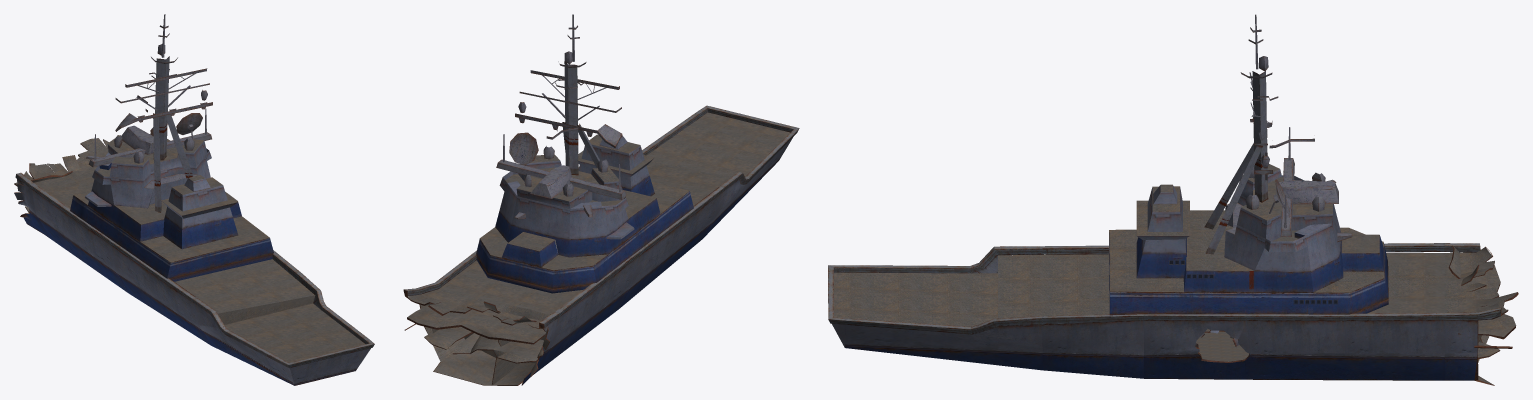
The model's file is Prop_DjShip003b_lod1.glb.
3 views of the same model, side by side, from view 1: azimuth 30°, elevation 25°; view 2: azimuth 150°, elevation 25°; view 3: azimuth 270°, elevation 25° (orthographic). The views are drawn at different scales.
Parts seen in each view (by area): view 1: dj_ship003b_lod1_0; view 2: dj_ship003b_lod1_0; view 3: dj_ship003b_lod1_0.
Part boxes in pixels (bbox=[...]): dj_ship003b_lod1_0: bbox=[14, 14, 374, 385]; dj_ship003b_lod1_0: bbox=[403, 14, 799, 385]; dj_ship003b_lod1_0: bbox=[828, 14, 1518, 385].
Bounding box in the file's own units: 28.44 × 60.19 × 104.
2 materials, 2 textured.
